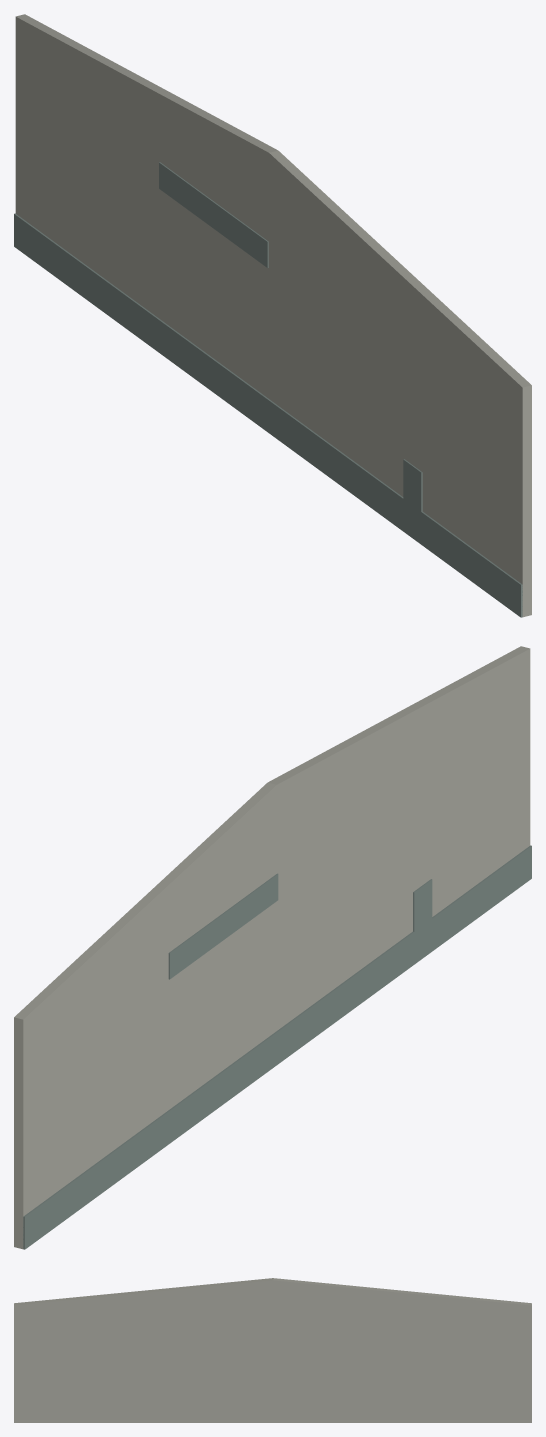
File: SM_NavePoligono_Testero_e0_Intacta_LOD1.fbx
The picture shows the model from 3 angles, top to bottom: view 1: azimuth 30°, elevation 25°; view 2: azimuth 150°, elevation 25°; view 3: azimuth 270°, elevation 25°; orthographic projection. The views are drawn at different scales.
Parts seen in each view (by area): view 1: SM_nave_poligono_v5_LOD1; view 2: SM_nave_poligono_v5_LOD1; view 3: SM_nave_poligono_v5_LOD1.
Part boxes in pixels (x1,y1,x2,y2): SM_nave_poligono_v5_LOD1: (14,14,531,617); SM_nave_poligono_v5_LOD1: (14,646,531,1249); SM_nave_poligono_v5_LOD1: (14,1278,531,1422).
Size of the model in its own units: 0.35 by 8.5 by 28.
